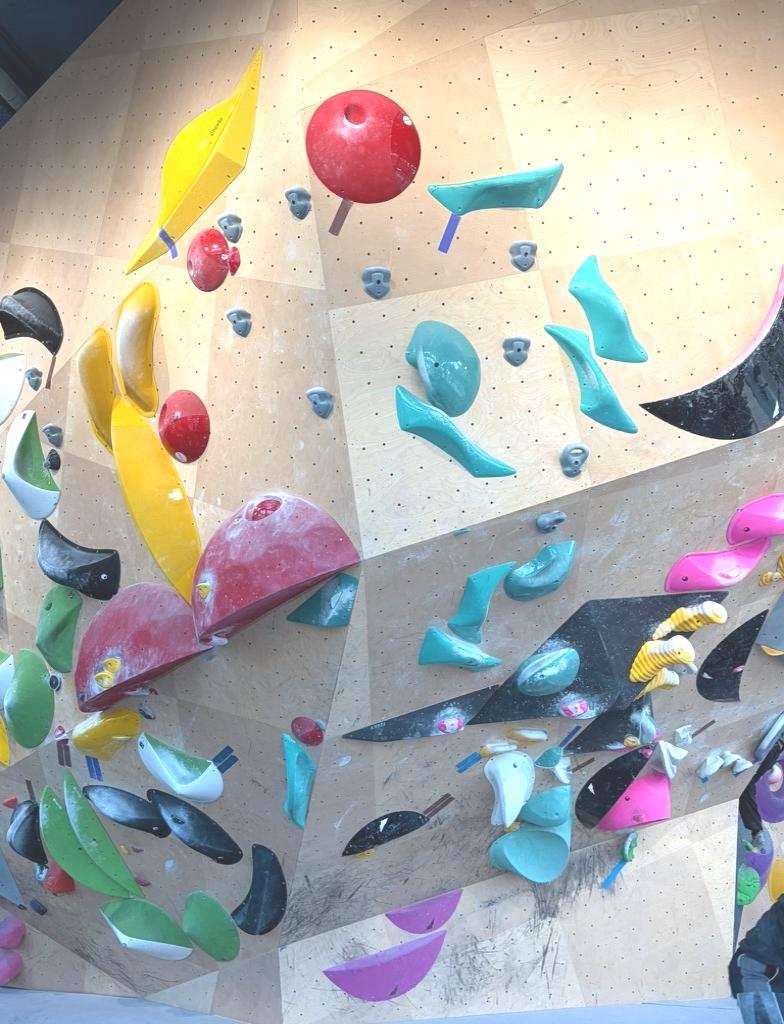crimp: (287, 573, 357, 627), (245, 497, 281, 520), (560, 700, 586, 717), (438, 716, 463, 732), (228, 247, 240, 275), (94, 673, 113, 688), (103, 657, 119, 673), (719, 566, 739, 578), (138, 704, 154, 718), (196, 582, 209, 598), (134, 876, 150, 886), (130, 844, 143, 852)
downhold: (559, 444, 588, 476), (305, 386, 333, 418), (509, 240, 536, 271), (362, 267, 389, 298), (285, 186, 310, 219), (217, 211, 242, 243), (504, 336, 529, 365), (226, 307, 251, 336), (537, 511, 566, 532), (43, 423, 61, 447), (26, 367, 41, 390)
jug: (504, 541, 576, 599), (420, 627, 499, 671), (630, 635, 693, 682), (652, 601, 727, 639), (639, 668, 678, 695), (695, 752, 722, 782), (507, 727, 547, 743), (480, 742, 516, 756), (623, 832, 636, 862), (200, 634, 228, 647), (732, 758, 751, 776), (43, 450, 59, 471)
ledge: (641, 266, 783, 439), (396, 386, 516, 476), (323, 932, 445, 1001), (430, 163, 562, 215), (38, 520, 119, 600), (696, 611, 766, 701), (665, 538, 770, 592), (488, 818, 570, 882), (0, 287, 62, 354), (72, 709, 141, 759), (385, 889, 461, 933), (648, 740, 687, 780)
pinch: (544, 325, 635, 432), (2, 412, 59, 519), (284, 734, 315, 829)
pocket: (305, 90, 420, 203), (187, 229, 229, 290), (292, 716, 323, 745)
sidepull: (113, 398, 200, 603), (64, 770, 143, 897), (41, 786, 129, 896), (569, 255, 646, 360), (405, 321, 480, 415), (116, 282, 158, 416), (448, 562, 513, 643), (232, 844, 286, 934), (77, 328, 115, 452), (5, 649, 53, 747), (182, 891, 239, 960), (36, 585, 81, 671)
sloper: (158, 390, 209, 461), (514, 647, 579, 696)
tape: (438, 214, 459, 252), (330, 198, 351, 235), (422, 793, 453, 817), (212, 746, 237, 772), (456, 751, 481, 773), (557, 726, 580, 747), (159, 228, 175, 257), (86, 756, 100, 781), (58, 737, 70, 766), (46, 355, 55, 388), (573, 758, 594, 771), (703, 721, 715, 730), (693, 729, 702, 737)
undercling: (148, 789, 242, 864), (99, 899, 190, 958), (83, 785, 169, 837), (343, 810, 428, 855), (484, 751, 533, 826), (519, 785, 571, 826), (535, 746, 561, 768)
volume: (465, 593, 731, 728), (126, 48, 260, 273), (192, 493, 358, 639), (75, 584, 206, 711), (339, 684, 506, 746), (562, 692, 656, 757)
